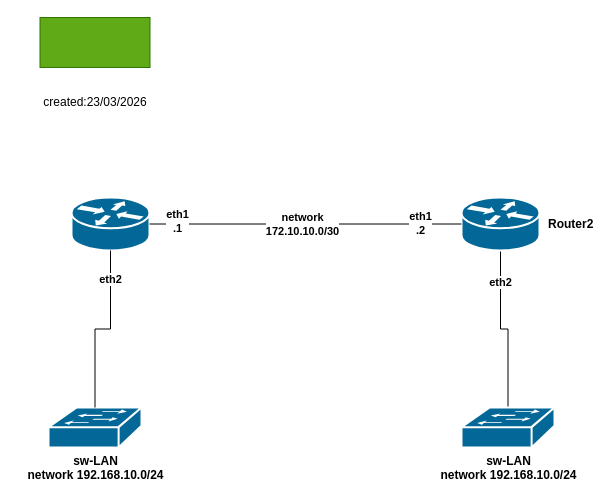
The diagram is 611 pixels wide and 501 high, and some of its shapes have lost their labels. Each missing label, with the centre of its shape:
Router1: point (110, 223)
VXLAN: point (94, 42)
